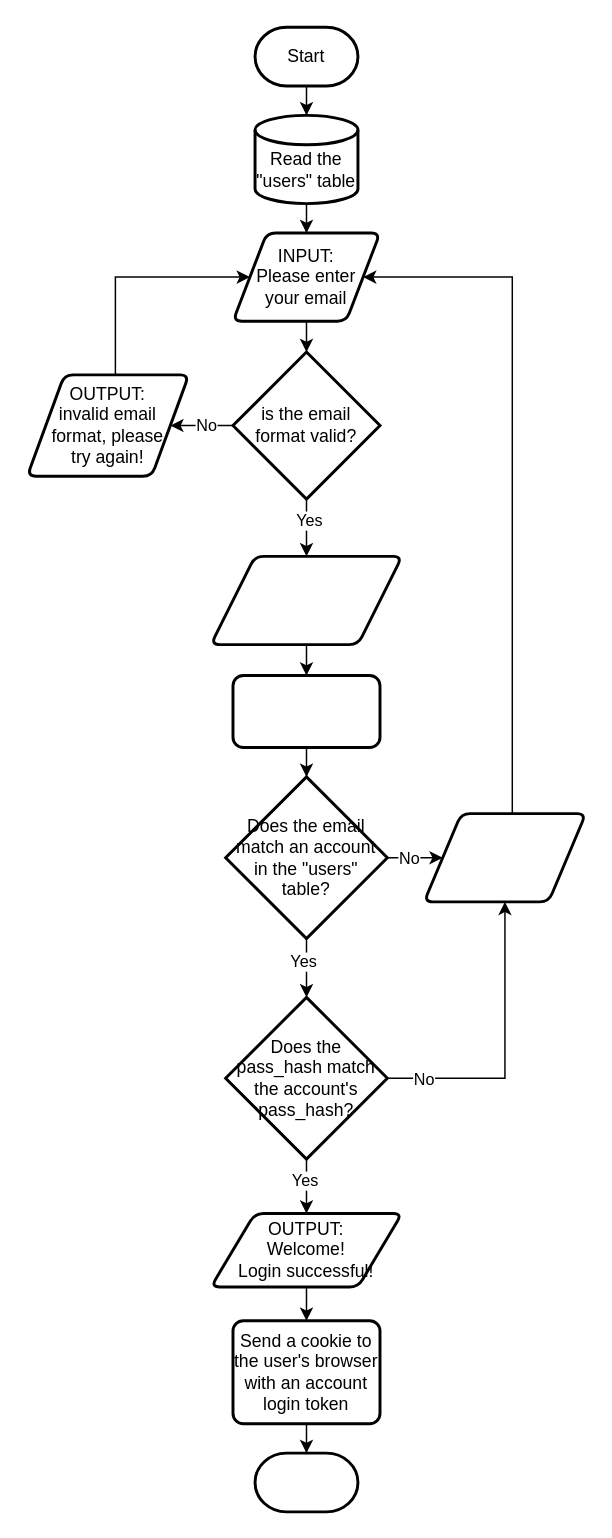
The diagram is 612 pixels wide and 1538 high, and some of its shapes have lost their labels. The shapes that lost their labels are listed below. From the top down, each one's box as (x1, y1, x2, y2) in pixels, then its label:
(209, 554, 403, 645): INPUT: Please enter your password
(231, 673, 381, 748): Hash the password using Argon2ID
(422, 811, 587, 903): OUTPUT: incorrect email or password, please try again
(253, 1451, 359, 1513): End
